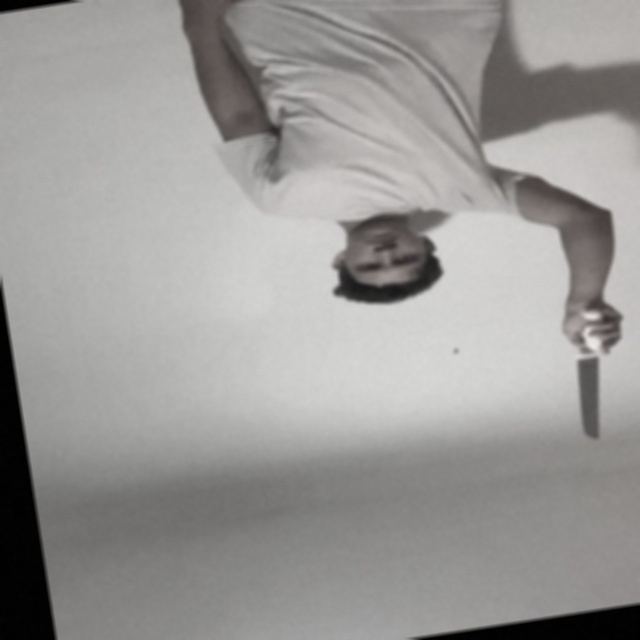Sharp-Object: (575, 353, 608, 442)
